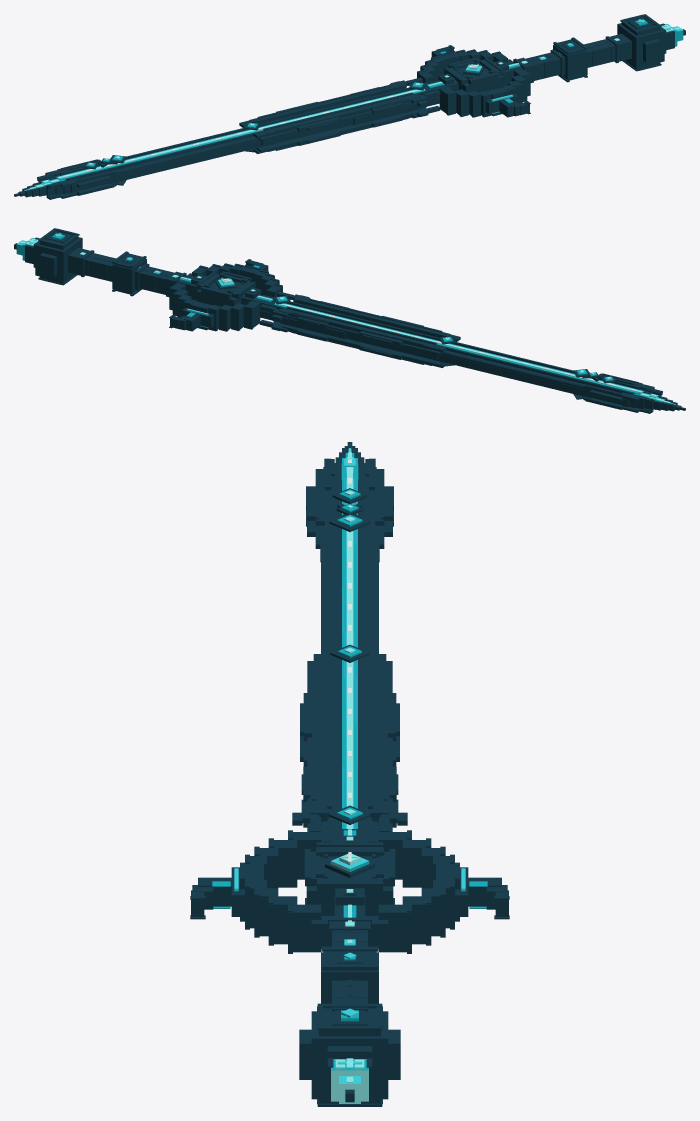
Rendered from sword.obj.
3 views of the same model, one above another, from view 1: azimuth 30°, elevation 25°; view 2: azimuth 150°, elevation 25°; view 3: azimuth 270°, elevation 25° (orthographic). The views are drawn at different scales.
Size of the model in its own units: 1 by 0.062 by 0.2062.
